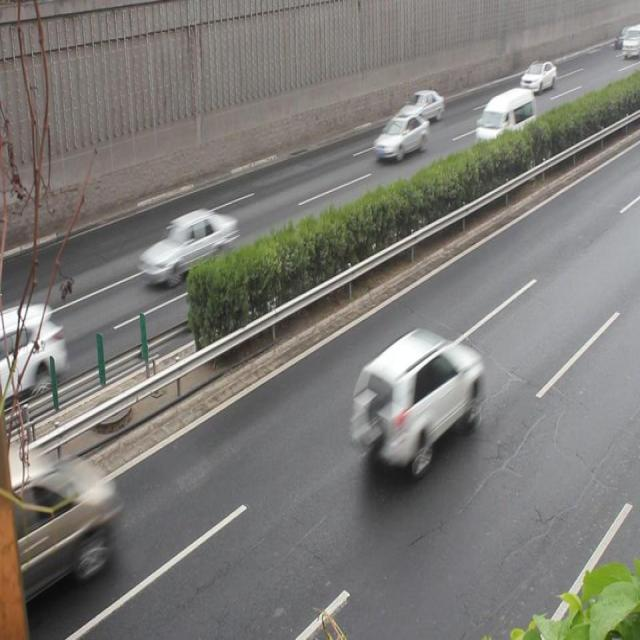car: (353, 330, 480, 470), (137, 208, 236, 287), (371, 112, 428, 162), (397, 88, 443, 124), (519, 58, 555, 95)
truck: (0, 448, 116, 610), (473, 89, 534, 160)
